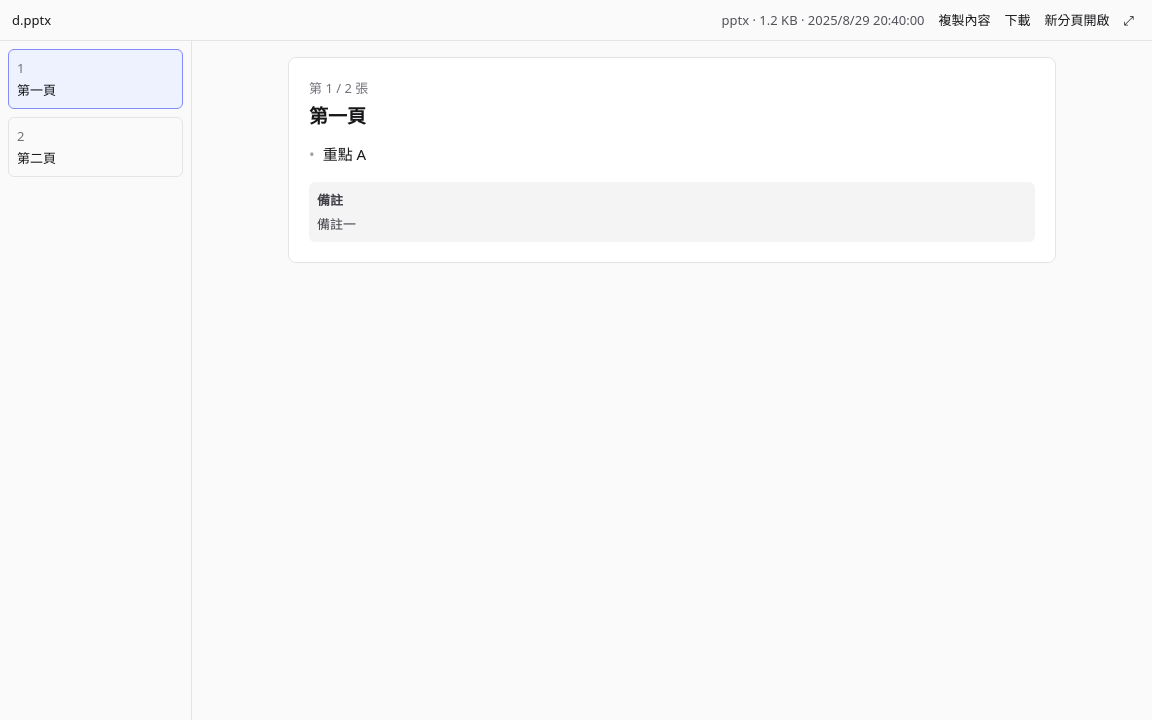
Test: FilePreview 各格式 › pptx：縮圖列切換投影片，顯示備註
expect the element with test id "slide-body" shows "重點 A": met, box 323,144 -> 366,164
expect the element with test id "slide-notes" shows "備註一": met, box 317,215 -> 356,233
What coordinates should you click on to do the following:
click the button with test id "slide-thumb-2"
I would click on:
 (96, 147)
Its box is 8,117 -> 183,177.
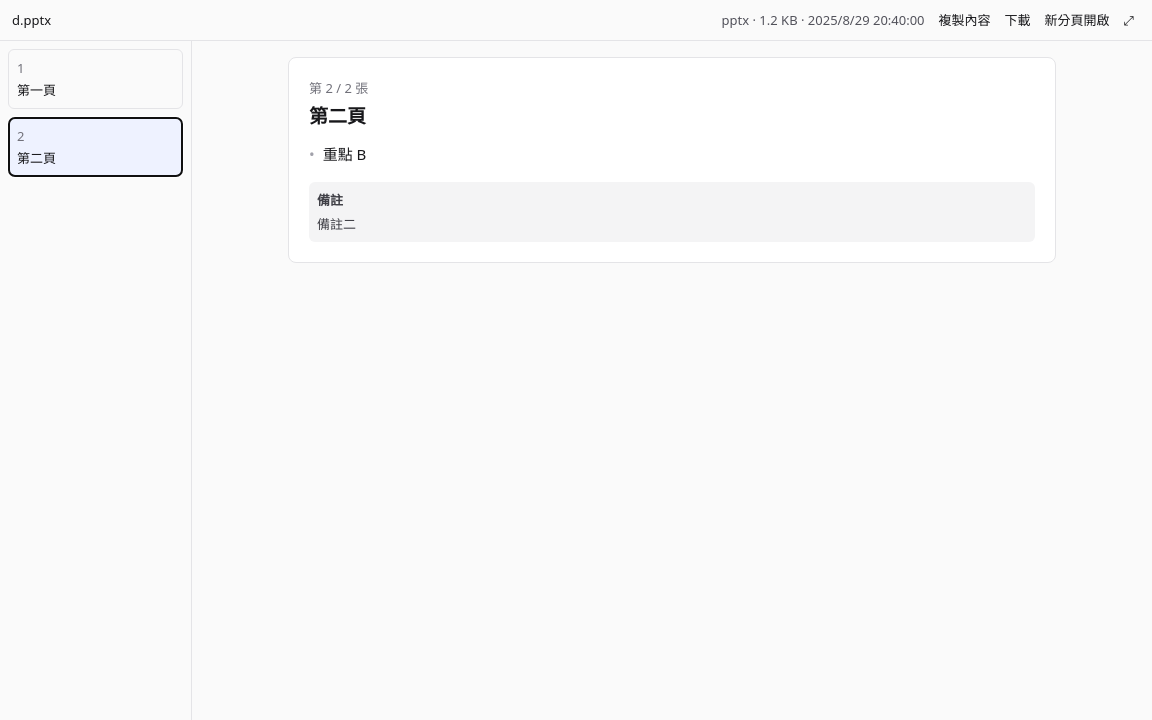
expect the element with test id "slide-body" shows "重點 B": met, box 323,144 -> 366,164
